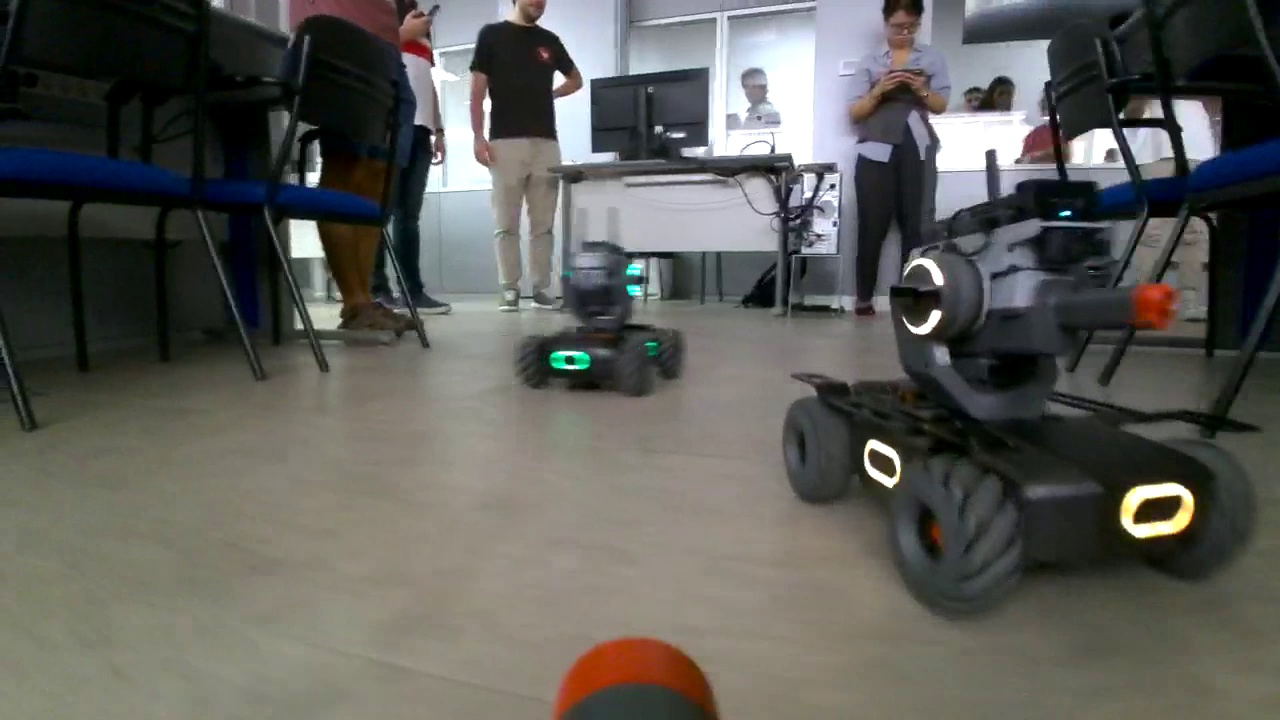robot: (783, 157, 1255, 622), (515, 205, 687, 405)
